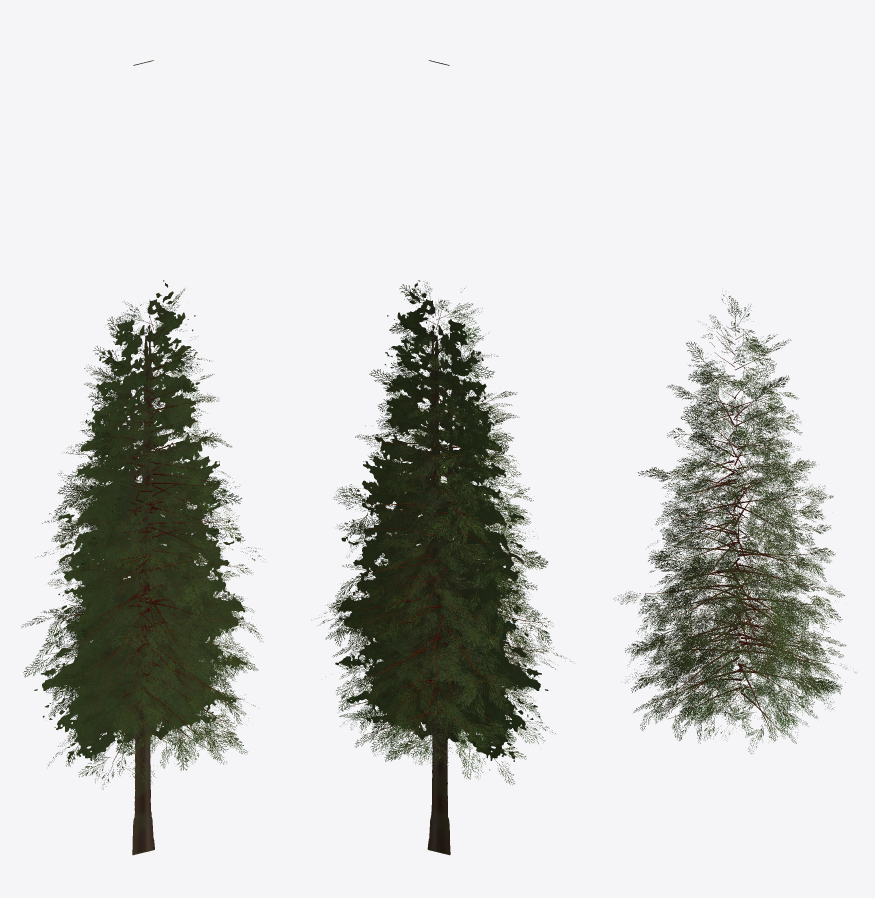
Rendered from sugi.glb.
3 views of the same model, side by side, from view 1: azimuth 30°, elevation 25°; view 2: azimuth 150°, elevation 25°; view 3: azimuth 270°, elevation 25° (orthographic). The views are drawn at different scales.
Visible parts, largest first — view 1: v0_imp, v0_lod0, v2_lod0, v1_lod0, v1_imp, v2_imp; view 2: v0_imp, v0_lod0, v1_lod0, v2_lod0, v2_imp, v1_imp; view 3: v0_lod0, v2_lod0, v1_lod0.
Boxes of the visible parts, x1,y1,x2,y2 form: v0_imp: [43, 280, 245, 853]; v0_lod0: [35, 288, 263, 760]; v2_lod0: [23, 300, 261, 784]; v1_lod0: [21, 369, 247, 789]; v1_imp: [41, 368, 247, 855]; v2_imp: [34, 60, 242, 850]; v0_imp: [337, 280, 539, 854]; v0_lod0: [324, 281, 555, 750]; v1_lod0: [329, 363, 570, 784]; v2_lod0: [320, 306, 547, 759]; v2_imp: [339, 60, 548, 854]; v1_imp: [335, 368, 541, 855]; v0_lod0: [613, 295, 845, 743]; v2_lod0: [631, 304, 855, 740]; v1_lod0: [629, 364, 843, 753].
Size of what is drawn, in the model's own units: 8.95 by 27.17 by 8.14.
Materials: 2 (2 with a texture image).
